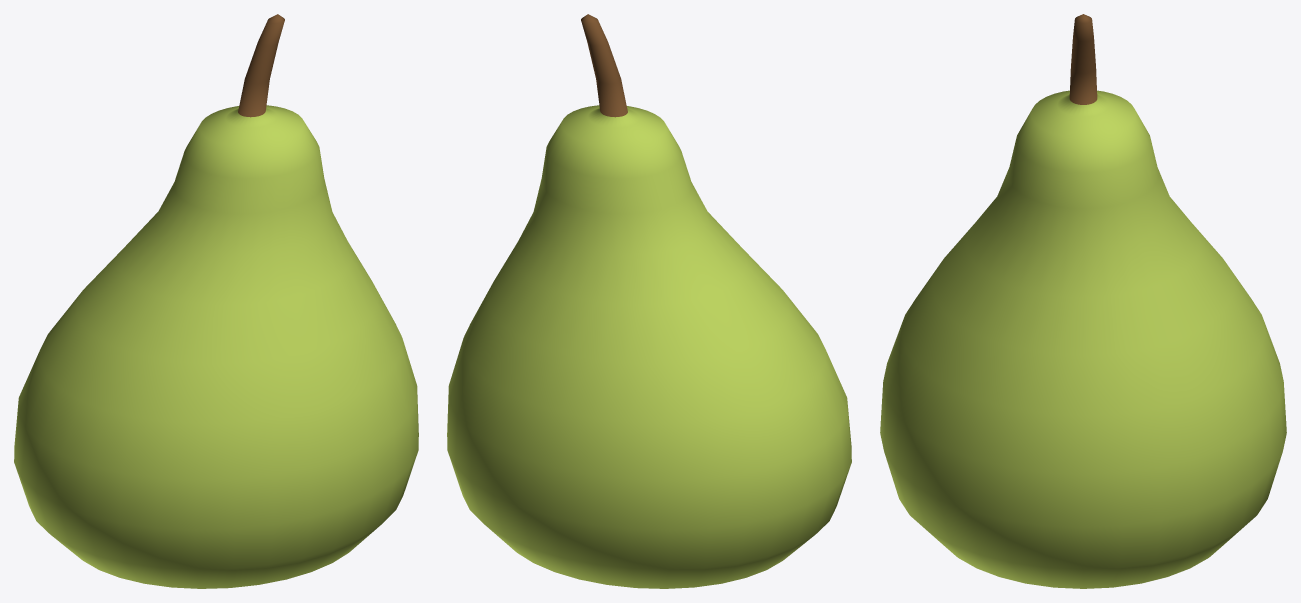
Rendered from NEW_RECOVERY_013_LOD1.glb.
3 views of the same model, side by side, from view 1: azimuth 30°, elevation 25°; view 2: azimuth 150°, elevation 25°; view 3: azimuth 270°, elevation 25° (orthographic). The views are drawn at different scales.
Visible parts, largest first — view 1: Whole pear with continuous stem; view 2: Whole pear with continuous stem; view 3: Whole pear with continuous stem.
Part boxes in pixels (x1,y1,x2,y2): Whole pear with continuous stem: [14, 14, 418, 588]; Whole pear with continuous stem: [447, 14, 851, 588]; Whole pear with continuous stem: [880, 14, 1286, 588].
Size of the model in its own units: 1.32 by 1.85 by 1.2.
